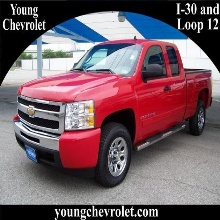no damage: (13, 38, 212, 186)
